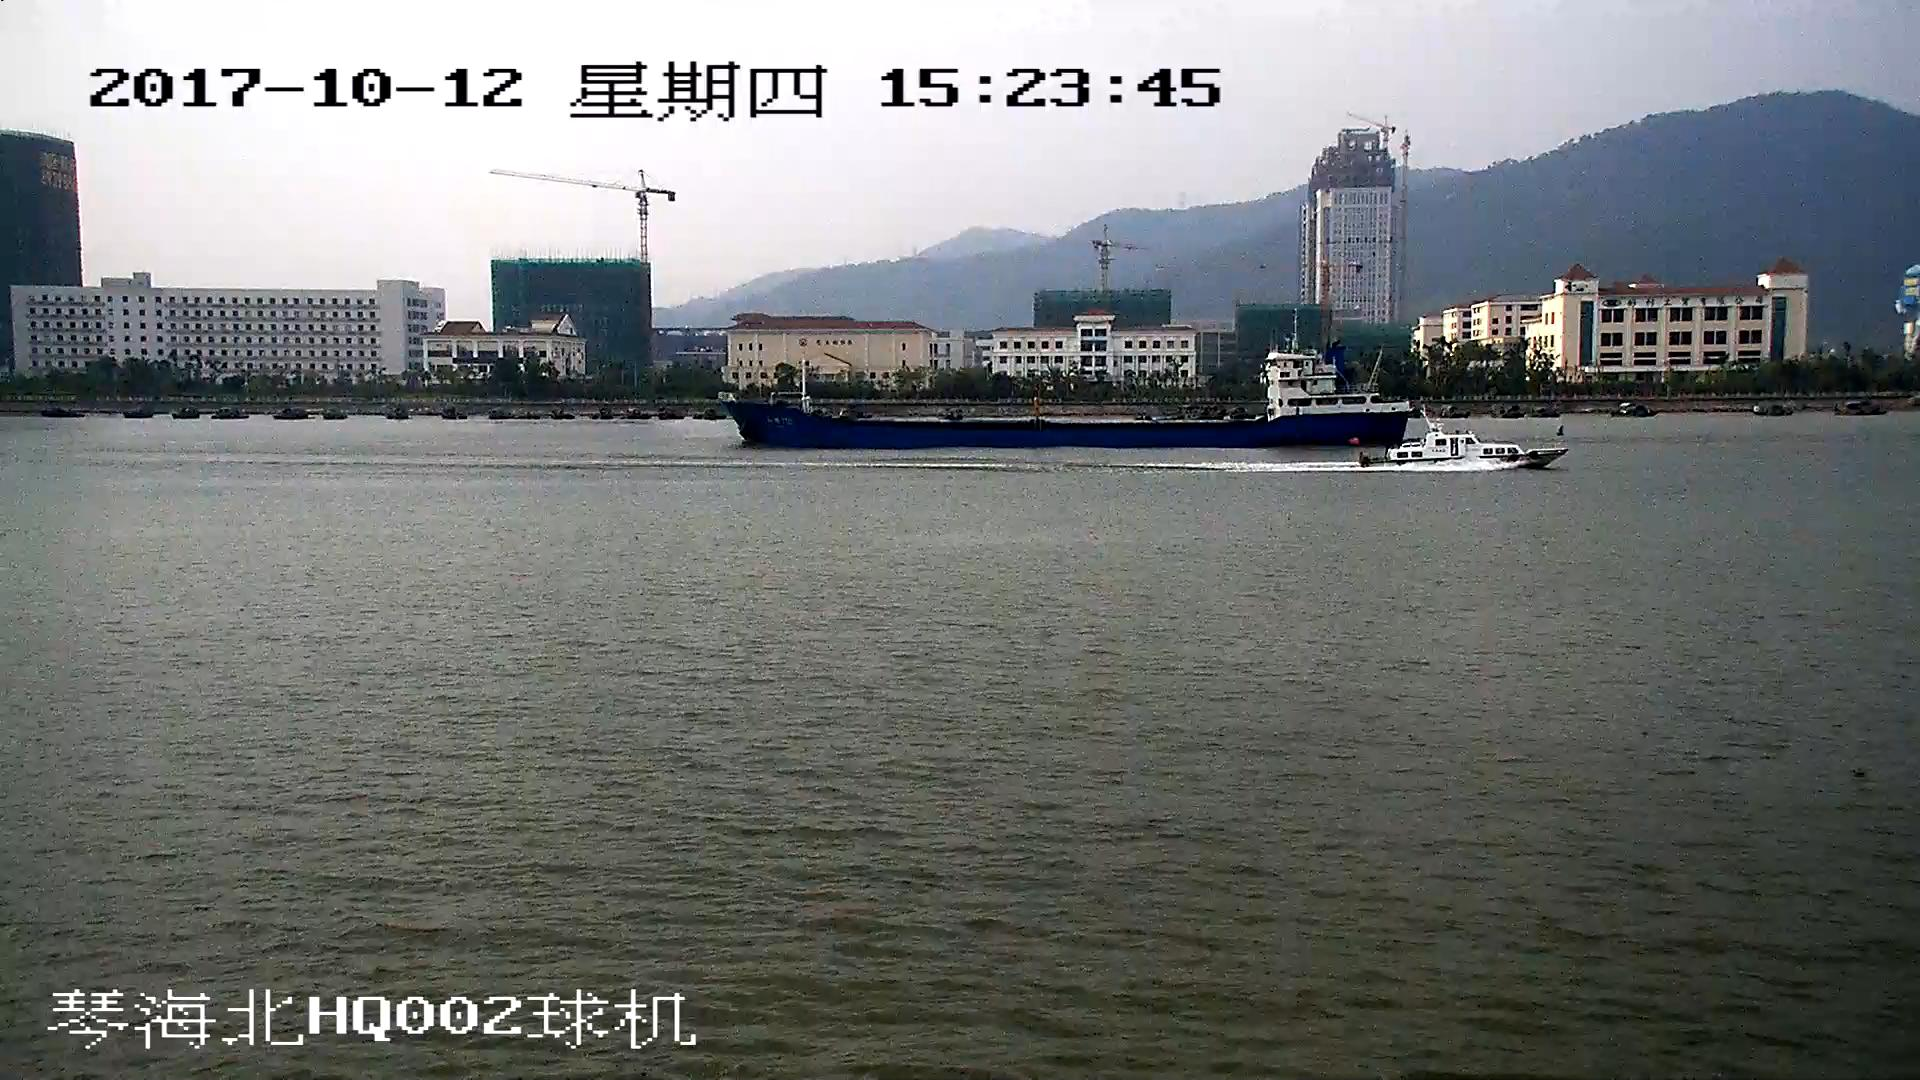bulk cargo carrier: (720, 319, 1403, 446)
passenger ship: (1372, 430, 1557, 476)
